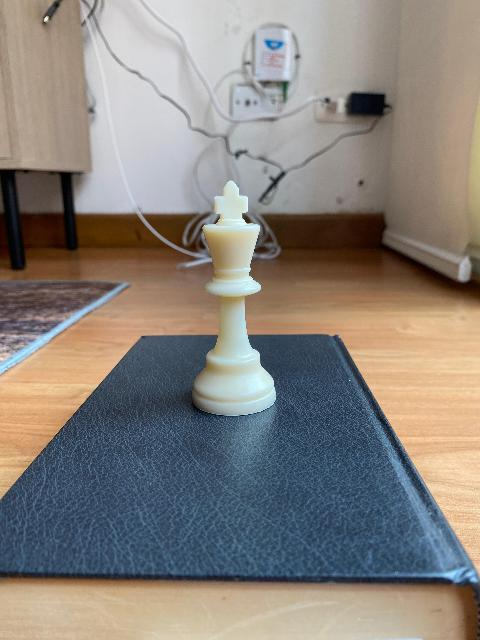white-king: (191, 180, 277, 416)
